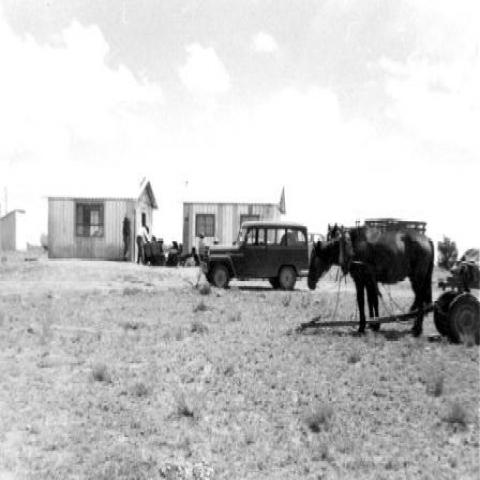truck: (202, 220, 308, 292)
